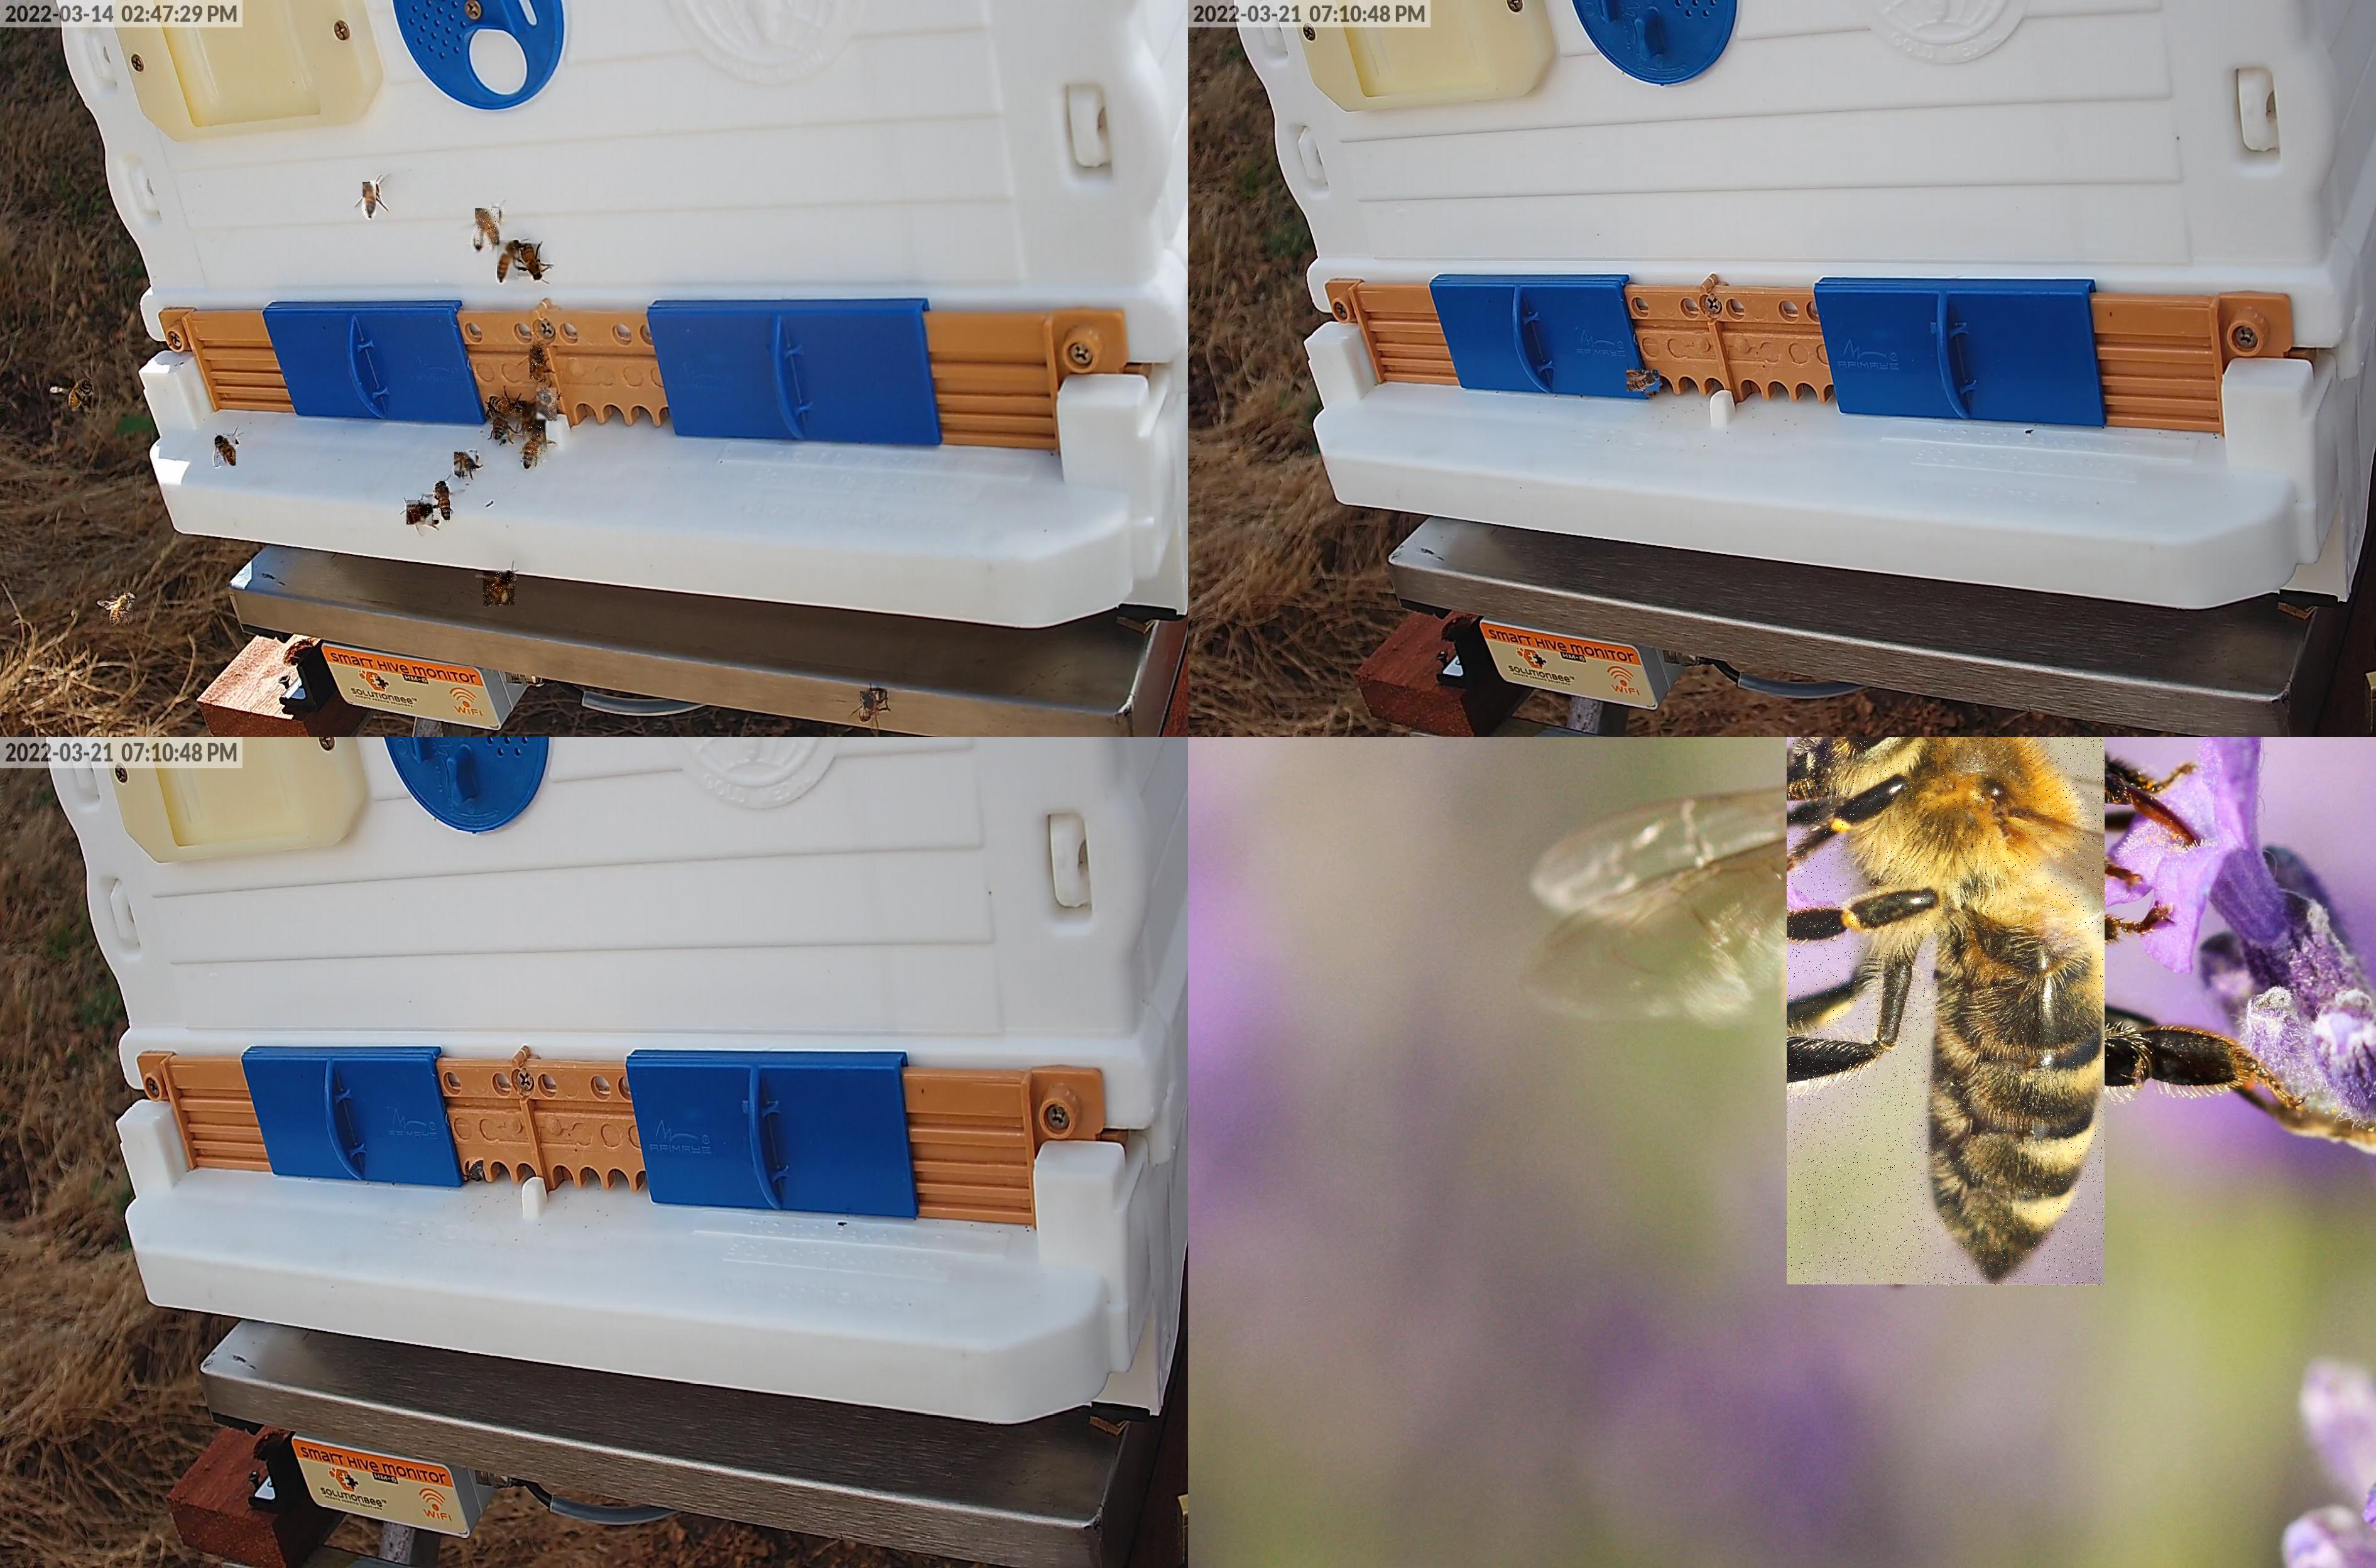bee: (1786, 737, 2107, 1288), (476, 208, 500, 248), (497, 241, 520, 282), (521, 401, 548, 434), (68, 378, 93, 411), (518, 245, 541, 278), (1627, 371, 1660, 394), (537, 387, 558, 422), (434, 481, 451, 523), (110, 593, 135, 623), (215, 434, 236, 467), (406, 500, 434, 525), (362, 182, 378, 219), (486, 397, 523, 413), (861, 691, 880, 719), (530, 345, 544, 380), (455, 451, 476, 474), (493, 415, 507, 443), (469, 1157, 485, 1178)
pollenbee: (483, 570, 516, 605), (521, 425, 548, 464)
